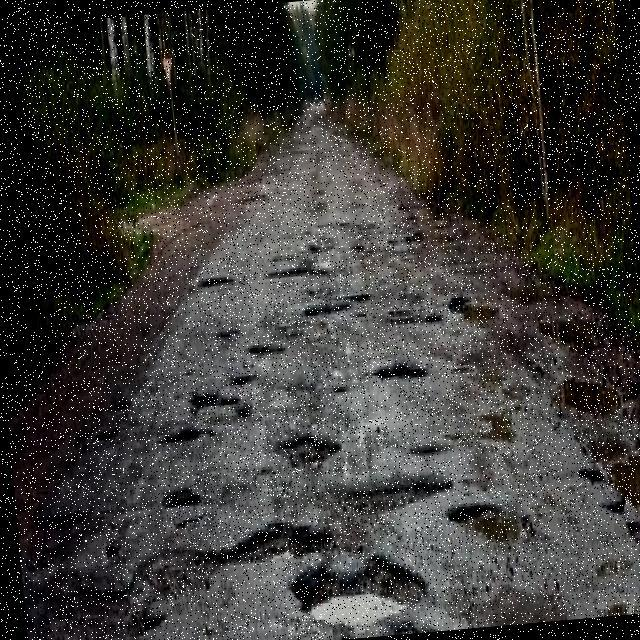Pothole: (27, 424, 456, 640), (291, 552, 424, 635), (594, 429, 640, 513), (446, 503, 528, 540), (564, 379, 620, 412), (554, 319, 596, 355), (450, 294, 496, 325)
